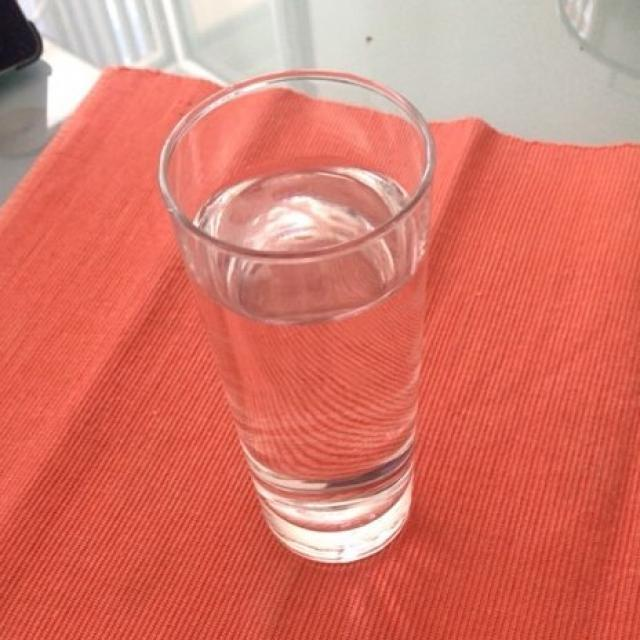water: (198, 157, 425, 539)
